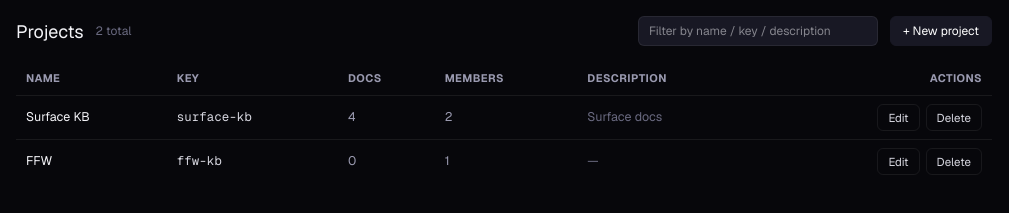
Test: ProjectsList › surfaces a delete-in-use 422 in the row error slot
Check: the row with test id "admin-project-row-1" is shown, box [16, 95, 992, 139]
Click the button with test id "admin-project-row-1-delete".
click(954, 117)  # box [926, 104, 982, 131]
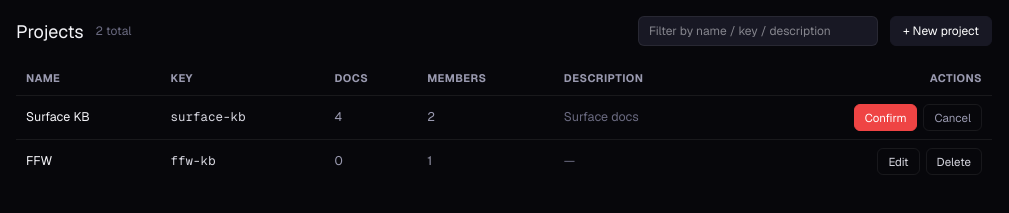
Click the button with test id "admin-project-row-1-delete-confirm".
click(886, 117)  # box [854, 104, 918, 131]
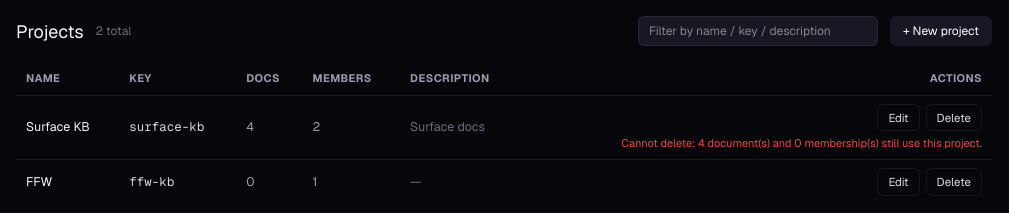
Check: the message with test id "admin-project-row-1-error" shows "Cannot delete", box [621, 136, 982, 150]
